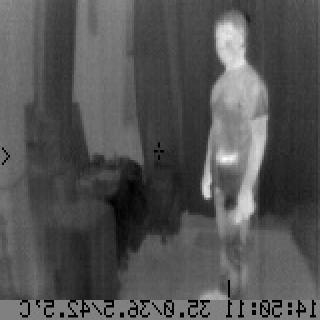Gun: (212, 148, 242, 198)
